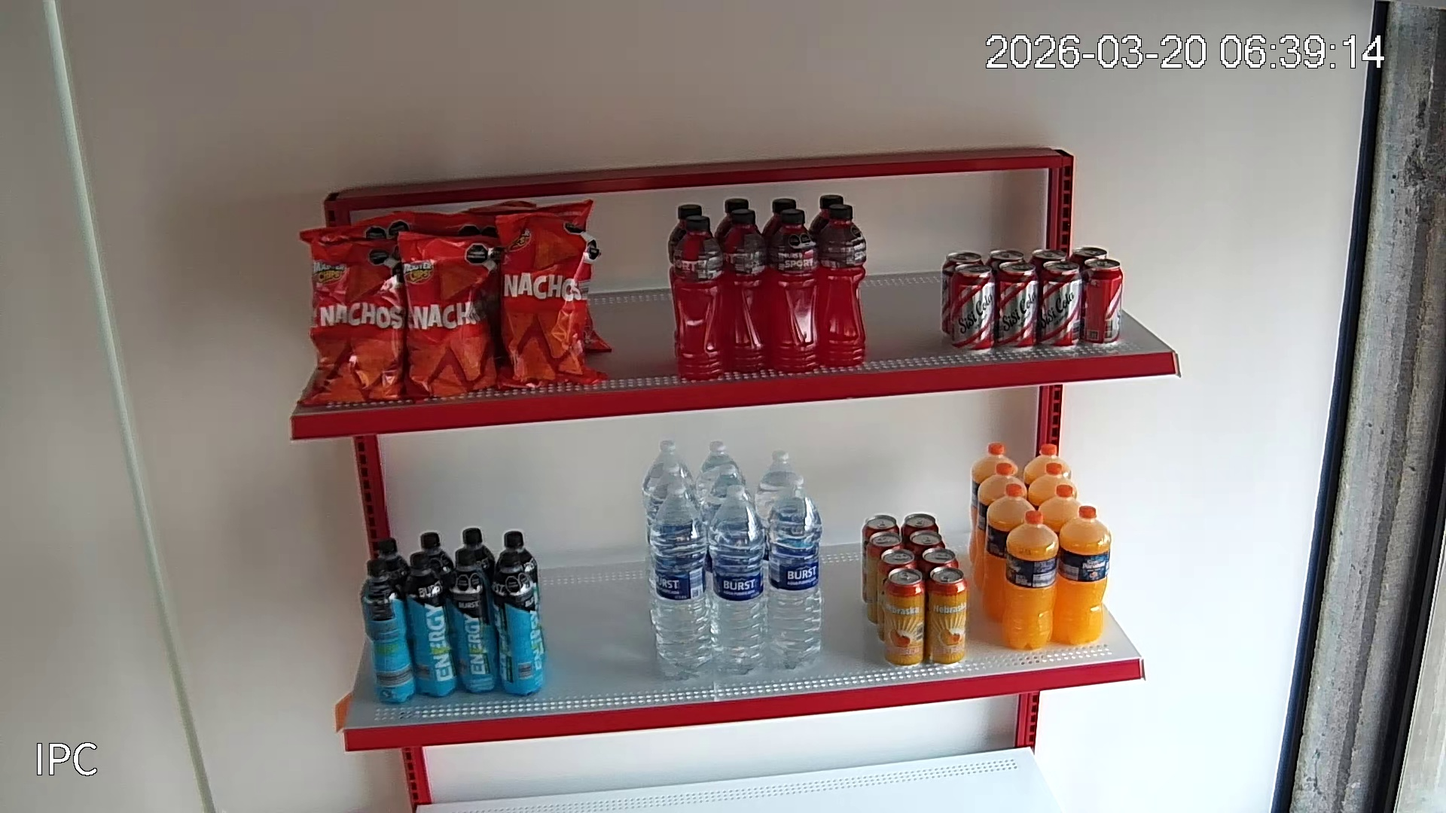agua_burst: (650, 482, 713, 680), (754, 449, 792, 555), (696, 441, 745, 508)
burst_energetica_roja: (717, 209, 770, 373), (815, 202, 867, 369), (666, 204, 703, 293)
burst_energy: (360, 558, 416, 704), (445, 548, 500, 694), (496, 530, 539, 605)
nachos_naturasol: (495, 199, 608, 389), (301, 236, 408, 399), (300, 210, 416, 245)
nebraska_mango: (885, 567, 925, 666), (861, 513, 900, 604), (918, 547, 959, 577)
sisi_cola: (949, 265, 995, 355), (1080, 258, 1122, 344), (1030, 247, 1068, 278)
sun_paradise_naranja: (1050, 505, 1110, 645), (980, 483, 1036, 623), (1022, 444, 1071, 491)
